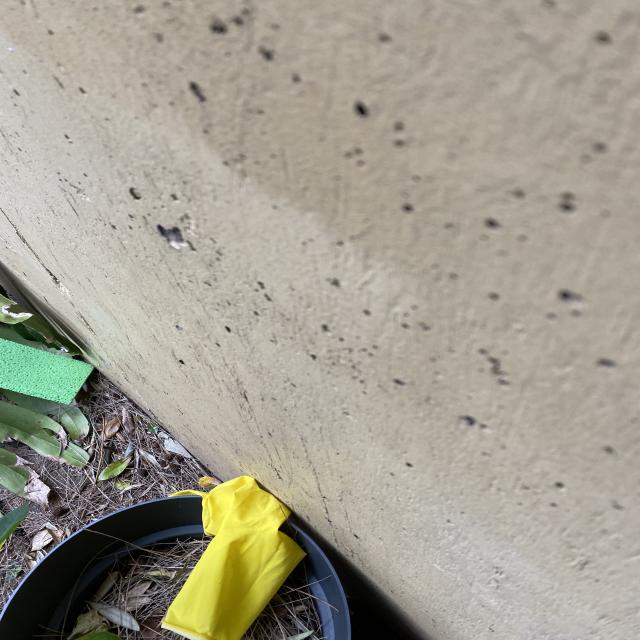glove: (162, 475, 307, 640)
sponge: (0, 337, 93, 405)
